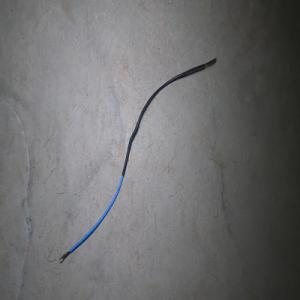Wire: (57, 57, 217, 264)
